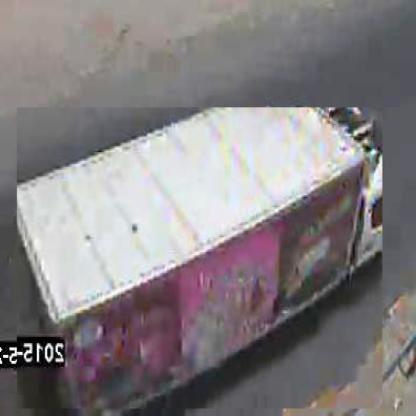truck: (17, 108, 383, 411)
